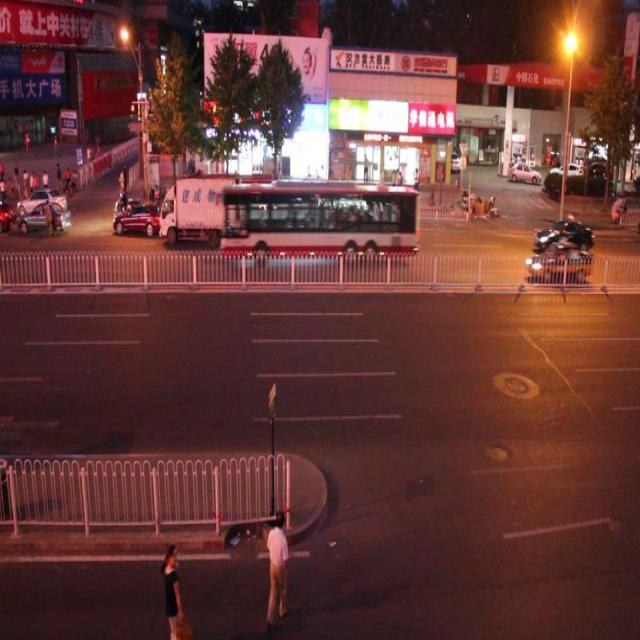bus: (153, 184, 240, 259)
car: (523, 238, 593, 282), (534, 214, 593, 254), (14, 201, 71, 239), (111, 198, 163, 236), (17, 184, 68, 219)
van: (219, 183, 419, 261)
